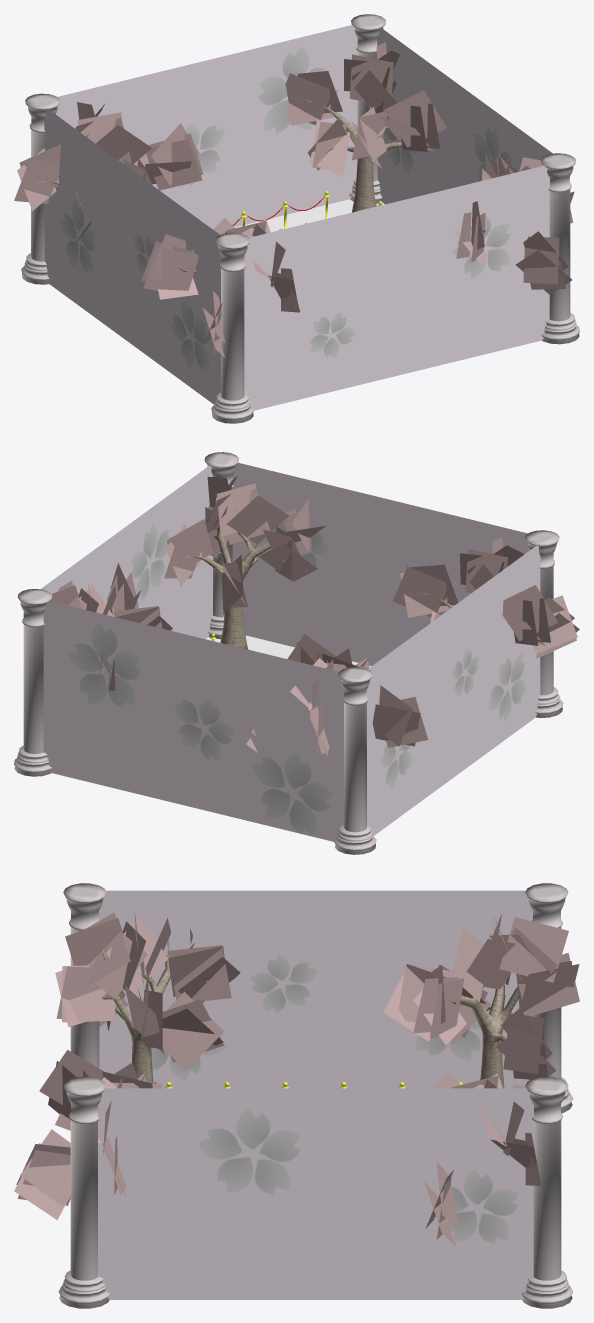
Rendered from Spring_room.fbx.
3 renders of one model, top to bottom at view 1: azimuth 30°, elevation 25°; view 2: azimuth 150°, elevation 25°; view 3: azimuth 270°, elevation 25°, orthographic. The views are drawn at different scales.
Parts seen in each view (by area): view 1: stage, sakura.002, floar; view 2: stage, sakura.003, floar; view 3: stage, sakura.001, sakura.004.
Part boxes in pixels (x1,y1,x2,y2): stage: [14, 14, 579, 423]; sakura.002: [297, 89, 402, 212]; floar: [235, 199, 384, 232]; stage: [14, 452, 579, 854]; sakura.003: [182, 497, 286, 649]; floar: [206, 635, 371, 667]; stage: [14, 883, 579, 1308]; sakura.001: [451, 983, 520, 1088]; sakura.004: [101, 948, 209, 1083].
Size of the model in its own units: 1035 by 401 by 969.
